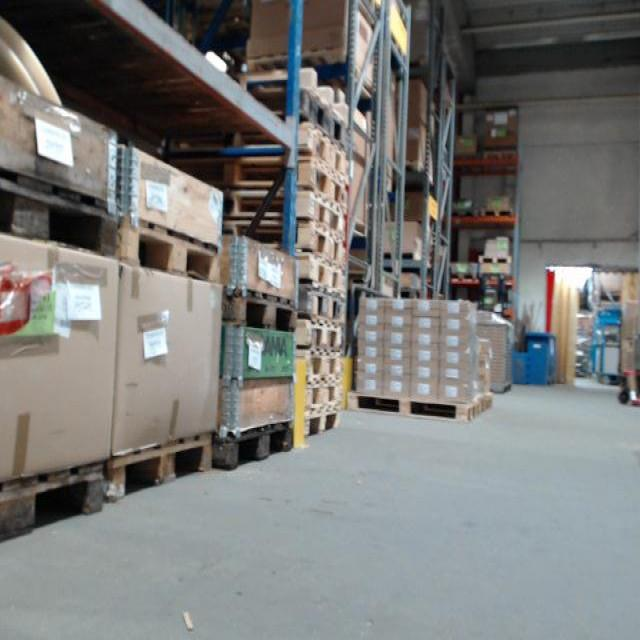pallet: (2, 162, 122, 254), (2, 453, 110, 544), (107, 424, 218, 504), (118, 209, 224, 287), (195, 161, 348, 206), (348, 384, 495, 423), (217, 222, 345, 265), (229, 194, 347, 237), (217, 416, 297, 472), (220, 285, 298, 335), (302, 91, 350, 149), (298, 125, 350, 177), (297, 250, 351, 295), (300, 285, 348, 325), (299, 352, 346, 383), (299, 325, 348, 352), (307, 411, 344, 441), (305, 383, 346, 410), (483, 146, 520, 167), (484, 205, 517, 221), (481, 253, 514, 268), (452, 205, 477, 224), (452, 269, 479, 281)
pallet_truck: (476, 272, 520, 318), (618, 358, 640, 413)
stillage: (468, 315, 518, 411)
